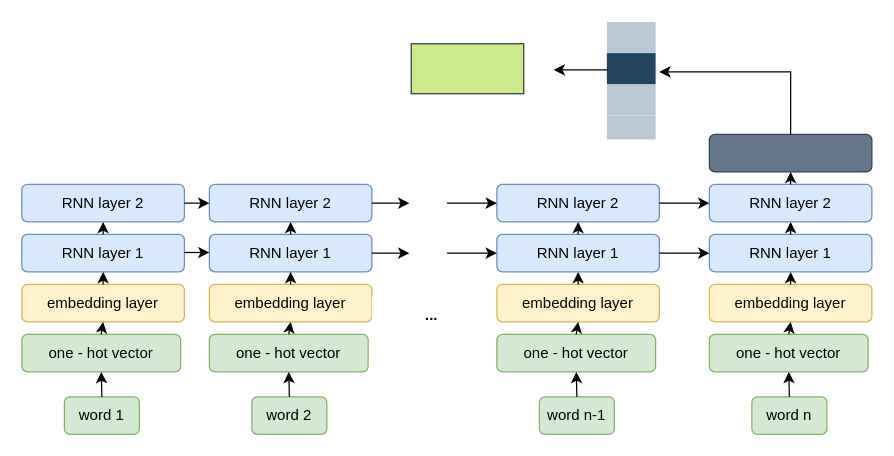
Image size: 894x456. Some labels were removed from this diagram. The shapes that lost their labels are listed below. From the top down, each one's centre as x and y in pixels, then its label:
At (467,68): "POSITIVE".
At (790,152): "Fully Connected layer".
